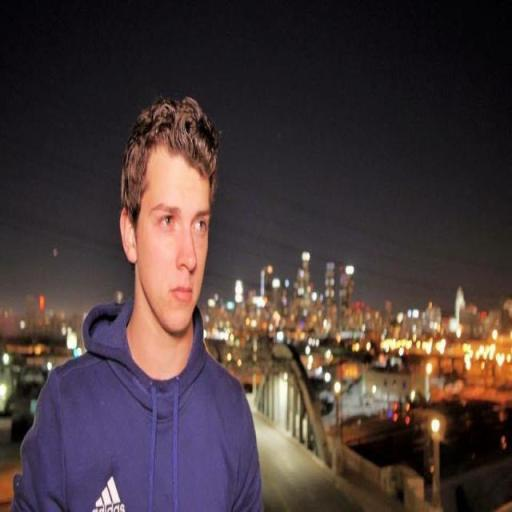Adidas: (89, 473, 126, 511)
